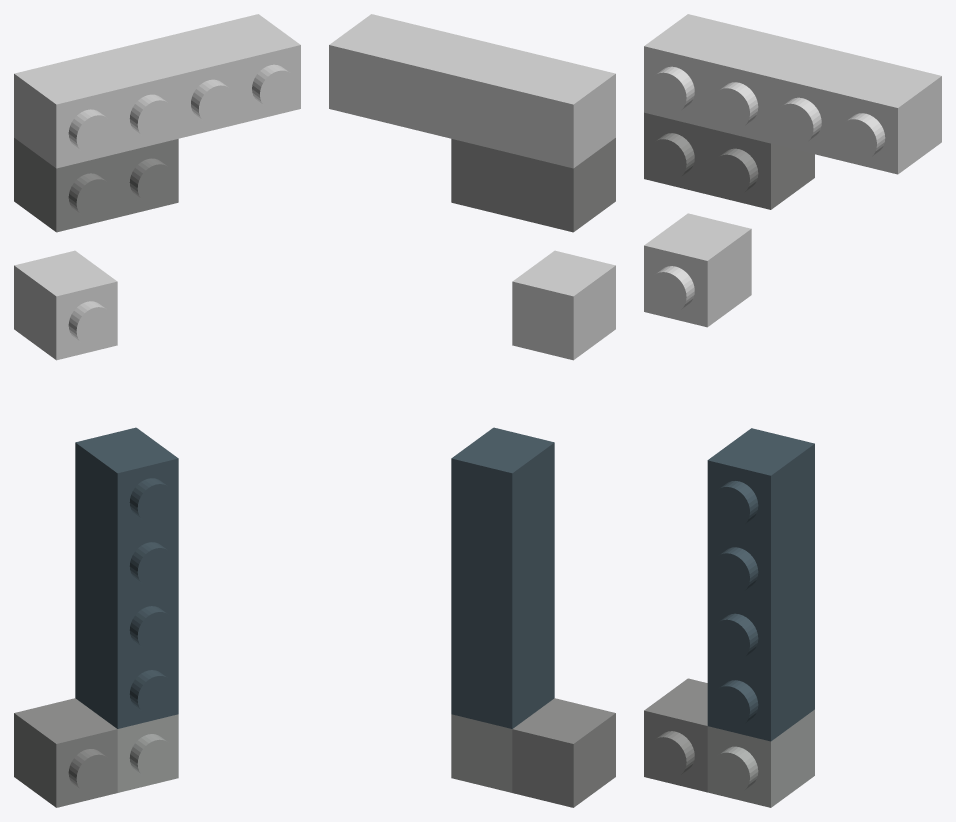
Rendered from current.glb.
3 renders of one model, left to right at view 1: azimuth 30°, elevation 25°; view 2: azimuth 150°, elevation 25°; view 3: azimuth 330°, elevation 25°, orthographic. The views are drawn at different scales.
Parts seen in each view (by area): view 1: world; view 2: world; view 3: world.
Boxes of the visible parts, left/top/right/bottom form: world: left=14, top=14, right=300, bottom=807; world: left=329, top=14, right=615, bottom=807; world: left=644, top=14, right=941, bottom=807.
Size of the model in its own units: 32 by 88 by 11.4.
